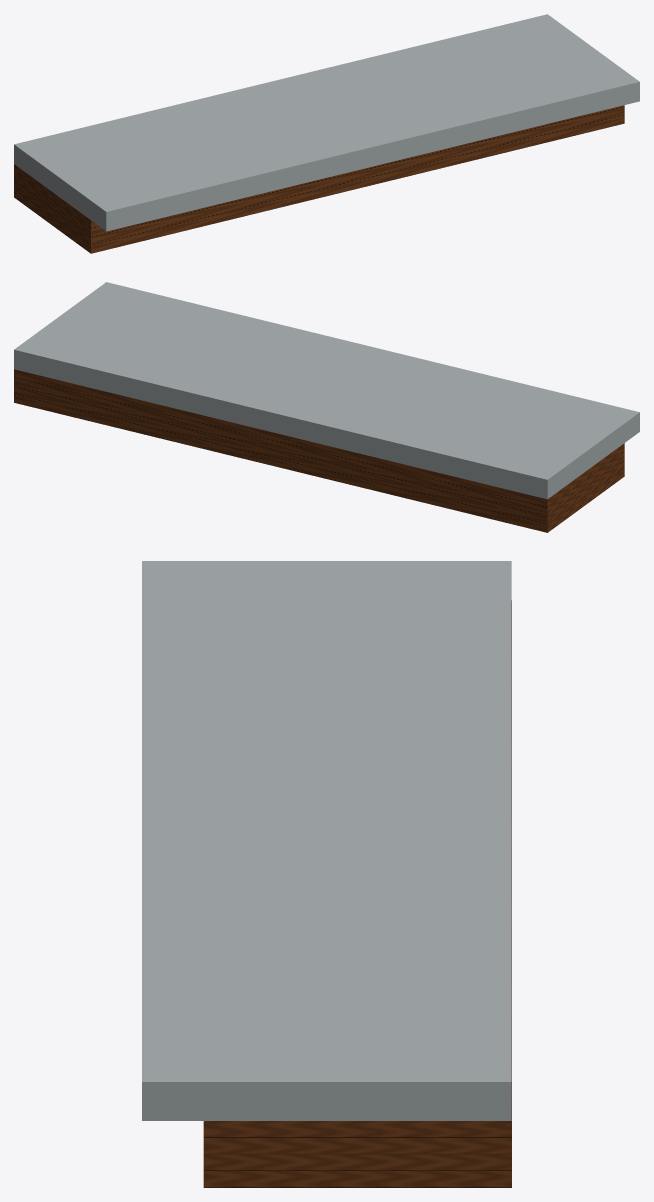
The model's file is modular-survival-base-builder-floor-threshold-5e53471b__24256.glb.
3 views of the same model, one above another, from view 1: azimuth 30°, elevation 25°; view 2: azimuth 150°, elevation 25°; view 3: azimuth 270°, elevation 25° (orthographic). The views are drawn at different scales.
Parts seen in each view (by area): view 1: floor-threshold; view 2: floor-threshold; view 3: floor-threshold.
Boxes of the visible parts, x1=… form: floor-threshold: x1=14, y1=14, x2=639, y2=253; floor-threshold: x1=14, y1=282, x2=639, y2=532; floor-threshold: x1=142, y1=561, x2=511, y2=1187.
Size of the model in its own units: 1 by 0.095 by 0.3.
2 materials, 1 textured.
